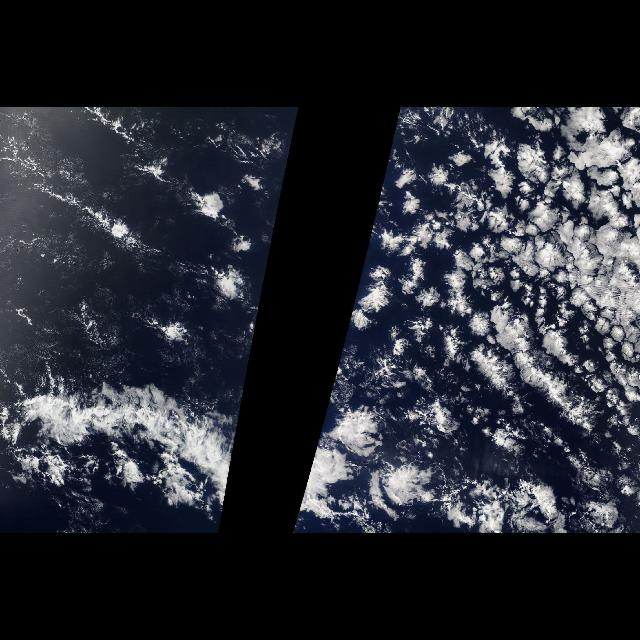Flower: (354, 109, 638, 527), (137, 171, 267, 347)
